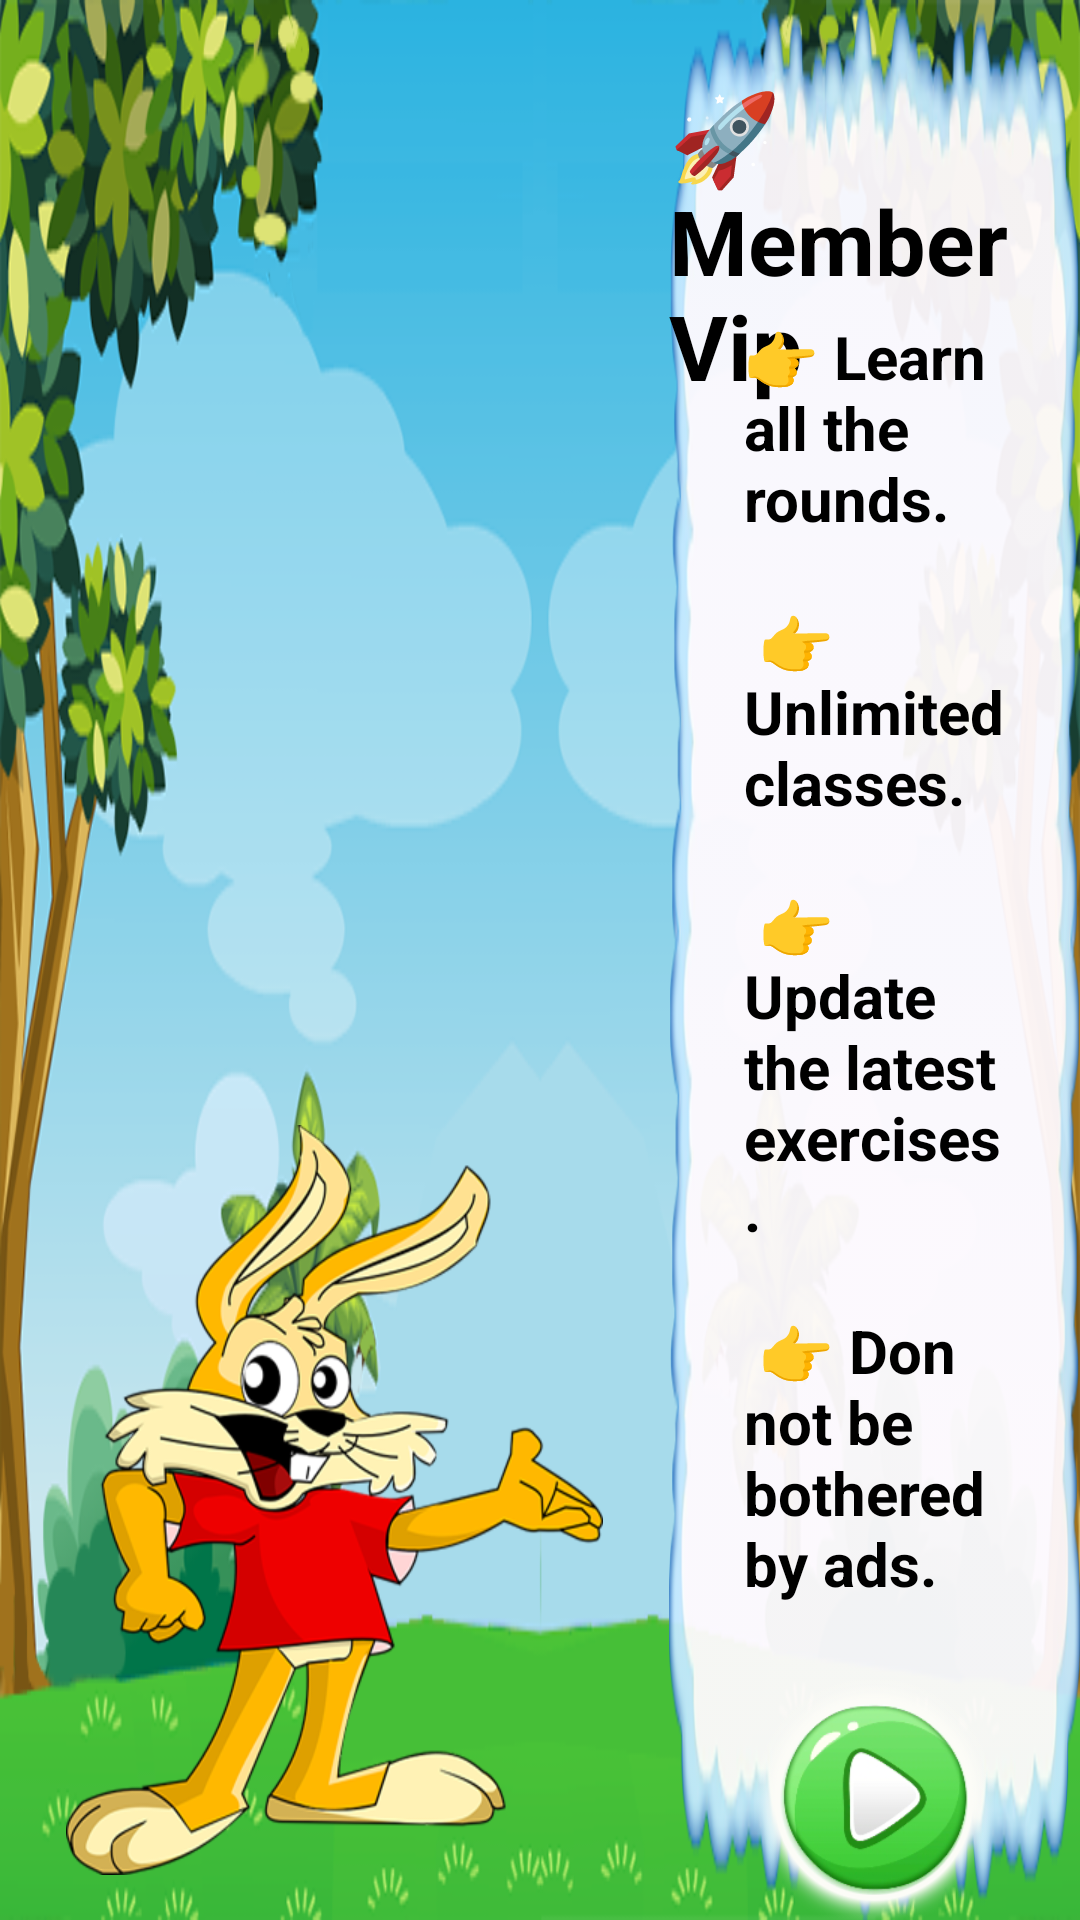

Locate icon controls on the screen. Image size 1080*1920, boxes as BBox(x1, y1, x2, y2).
play: BBox(782, 1705, 968, 1894)
